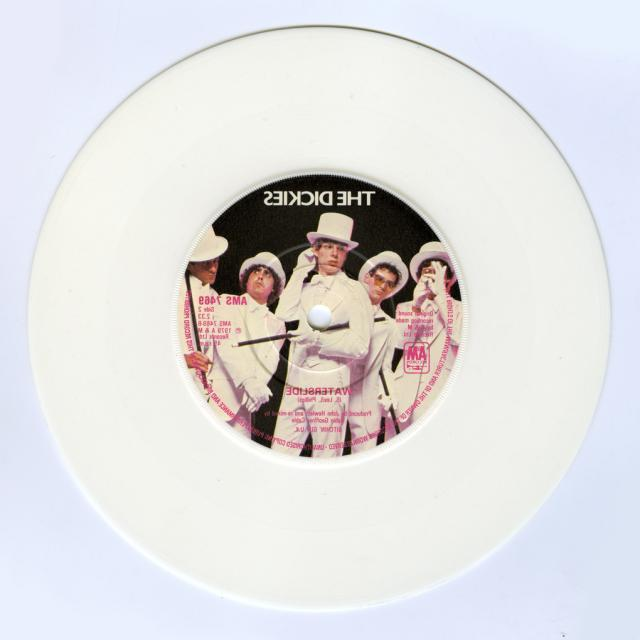ceramic plate: (0, 21, 629, 616)
